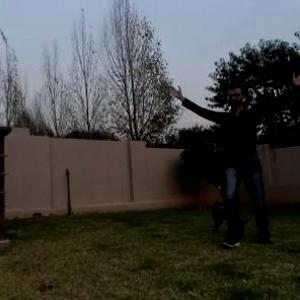takeoff: (174, 82, 297, 252)
